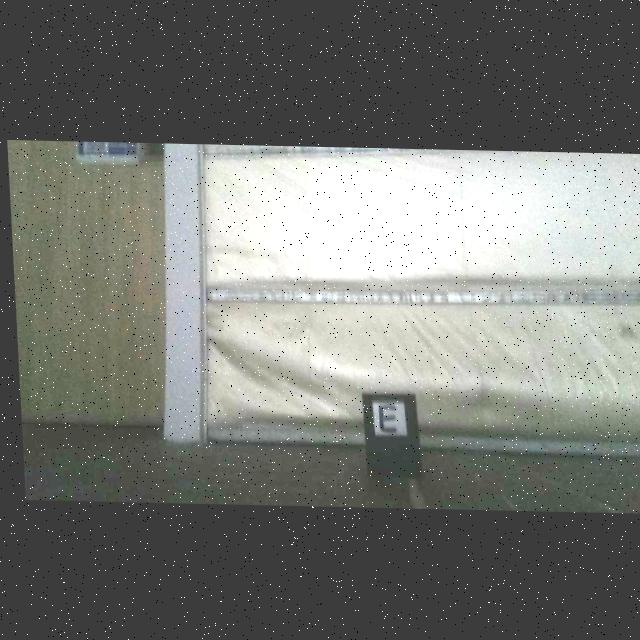E: (374, 401, 393, 431)
